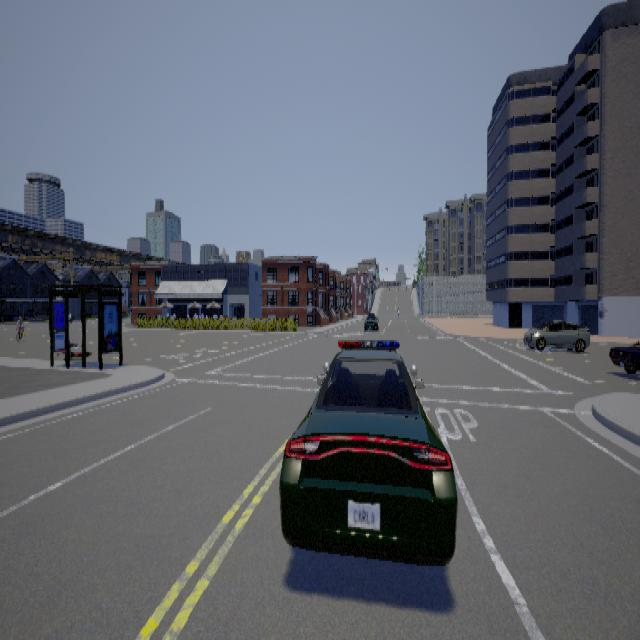vehicle: (278, 339, 457, 564), (522, 318, 589, 352), (608, 339, 639, 372), (360, 308, 382, 334)
